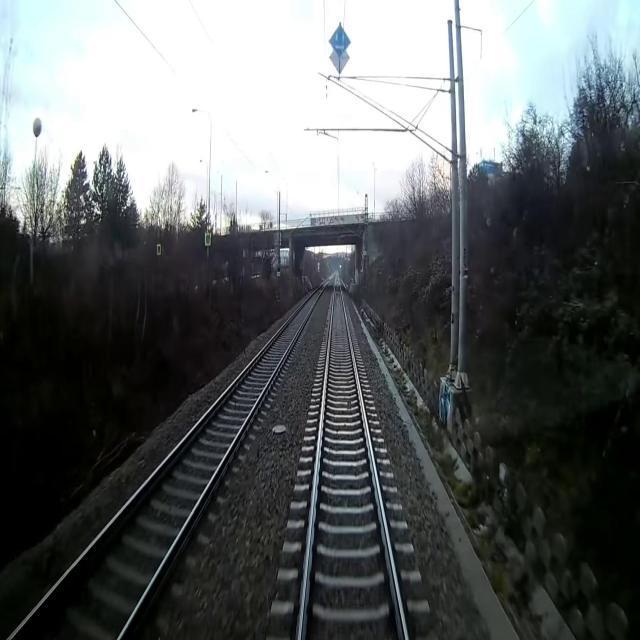rail-track: (14, 277, 330, 639), (301, 276, 405, 639)
